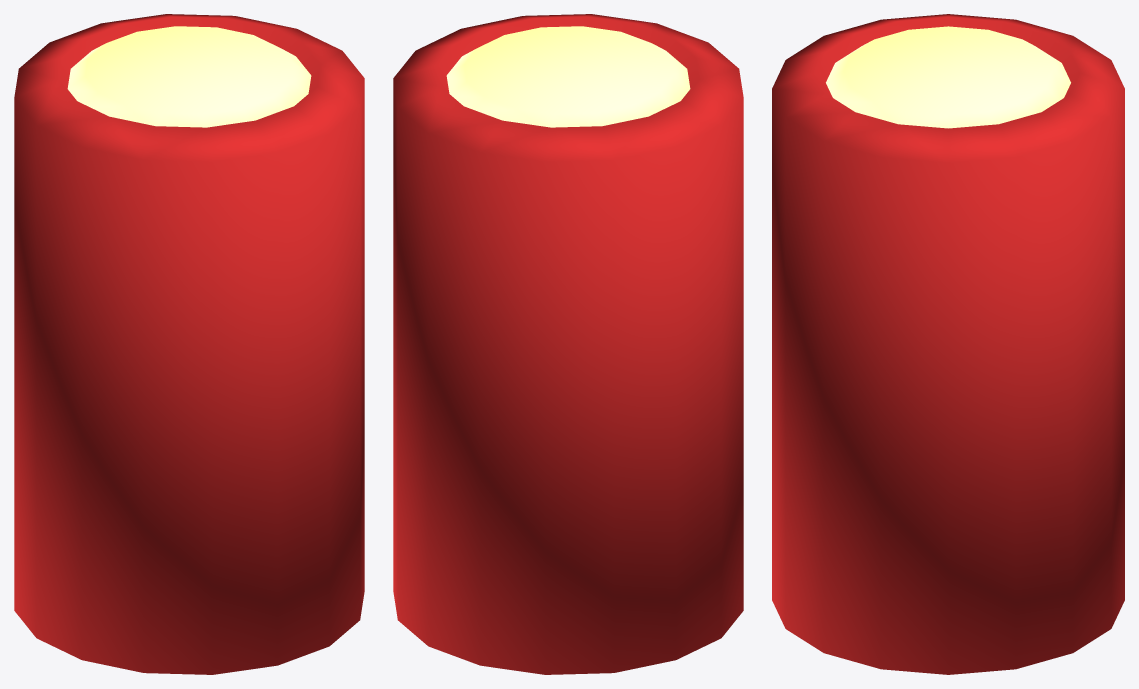
File: Button.glb
The picture shows the model from 3 angles, left to right: view 1: azimuth 30°, elevation 25°; view 2: azimuth 150°, elevation 25°; view 3: azimuth 270°, elevation 25°; orthographic projection.
Visible parts, largest first — view 1: Button; view 2: Button; view 3: Button.
Boxes of the visible parts, bbox=[...] form: Button: bbox=[14, 14, 364, 674]; Button: bbox=[393, 14, 743, 674]; Button: bbox=[772, 14, 1124, 674].
Size of the model in its own units: 0.2412 by 0.3996 by 0.2412.
